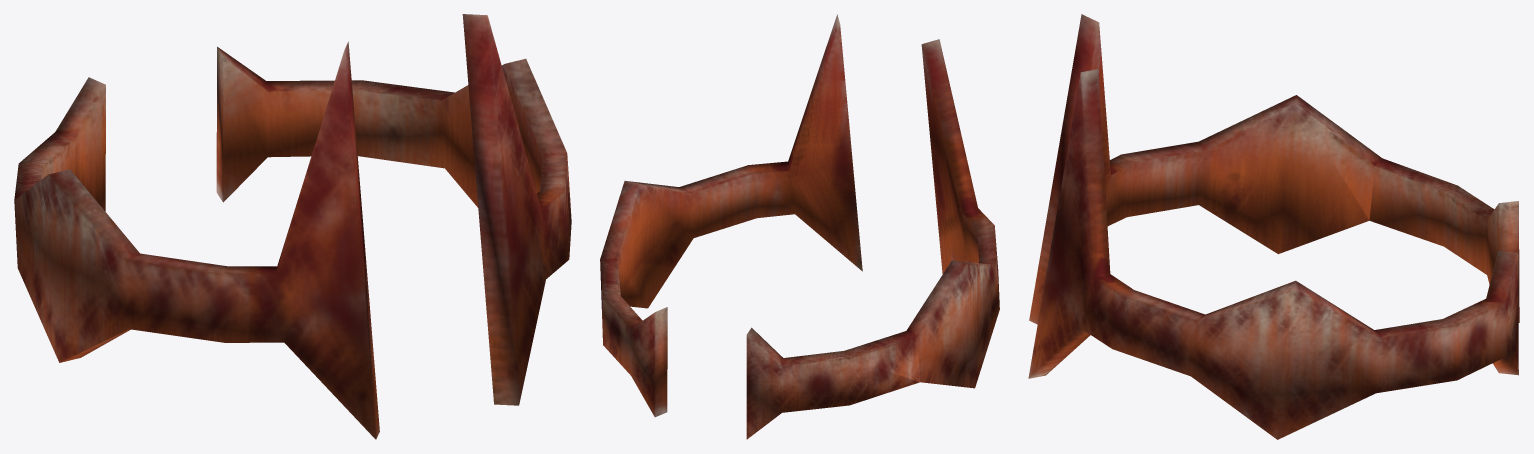
File: HEAD_CROWN_BLOOD.fbx
The picture shows the model from 3 angles, left to right: view 1: azimuth 30°, elevation 25°; view 2: azimuth 150°, elevation 25°; view 3: azimuth 270°, elevation 25°; orthographic projection. The views are drawn at different scales.
Parts seen in each view (by area): view 1: HEAD_CROWN_BLOOD; view 2: HEAD_CROWN_BLOOD; view 3: HEAD_CROWN_BLOOD.
Part boxes in pixels (x1,y1,x2,y2): HEAD_CROWN_BLOOD: (14,14,571,439); HEAD_CROWN_BLOOD: (600,14,999,439); HEAD_CROWN_BLOOD: (1028,14,1519,439).
Size of the model in its own units: 0.026 by 0.0193 by 0.0278.
